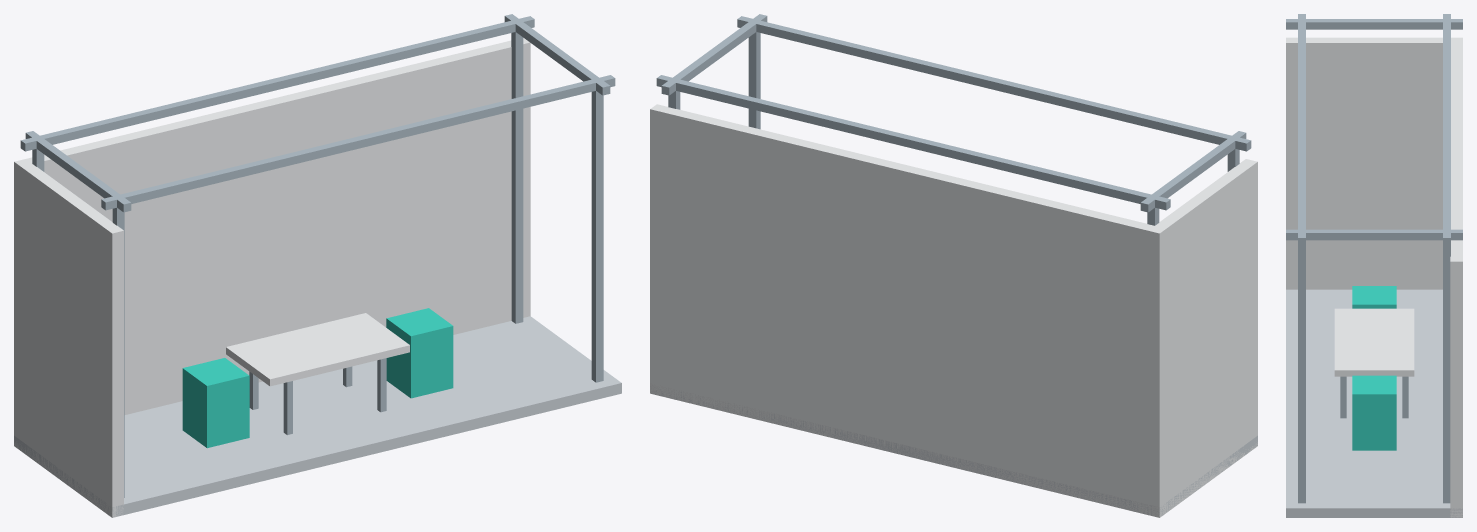
3 views of the same model, side by side, from view 1: azimuth 30°, elevation 25°; view 2: azimuth 150°, elevation 25°; view 3: azimuth 270°, elevation 25° (orthographic). The views are drawn at different scales.
Visible parts, largest first — view 1: Exhibition Booth Concept; view 2: Exhibition Booth Concept; view 3: Exhibition Booth Concept.
Boxes of the visible parts, left/top/right/bottom form: Exhibition Booth Concept: left=14, top=14, right=621, bottom=517; Exhibition Booth Concept: left=650, top=14, right=1257, bottom=517; Exhibition Booth Concept: left=1286, top=14, right=1462, bottom=517.
Size of the model in its own units: 6 by 3.49 by 2.
